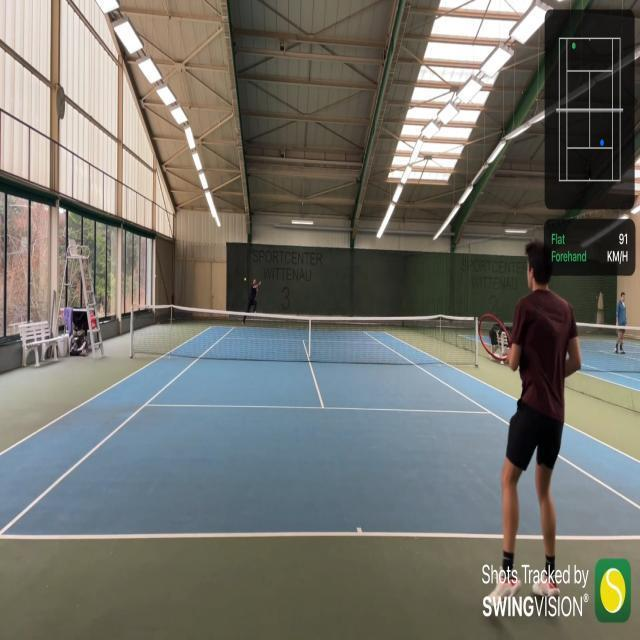court: (0, 326, 640, 542)
net: (130, 302, 478, 366)
player: (478, 239, 582, 609)
